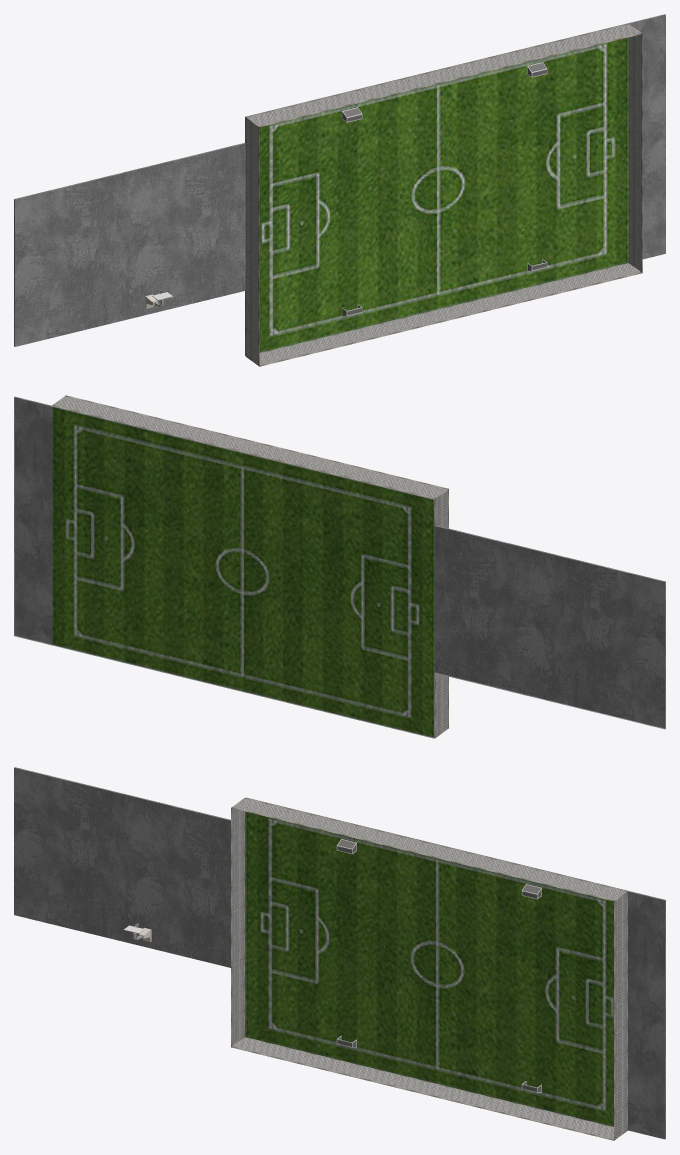
Rendered from JTLQC.gltf.
3 renders of one model, top to bottom at view 1: azimuth 30°, elevation 25°; view 2: azimuth 150°, elevation 25°; view 3: azimuth 330°, elevation 25°, orthographic.
Bounding box in the file's own units: 136 × 47.95 × 6.36.
9 materials, 9 textured.
